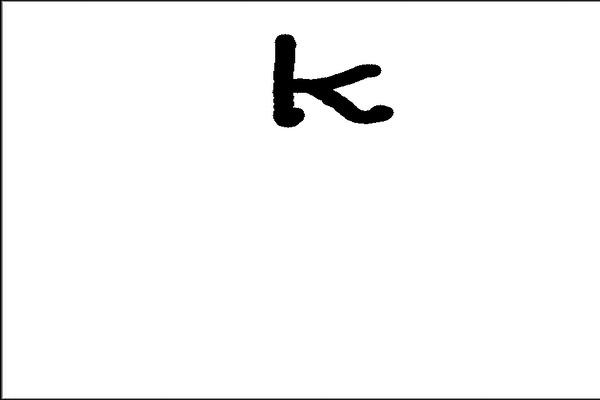K: (262, 27, 398, 135)
